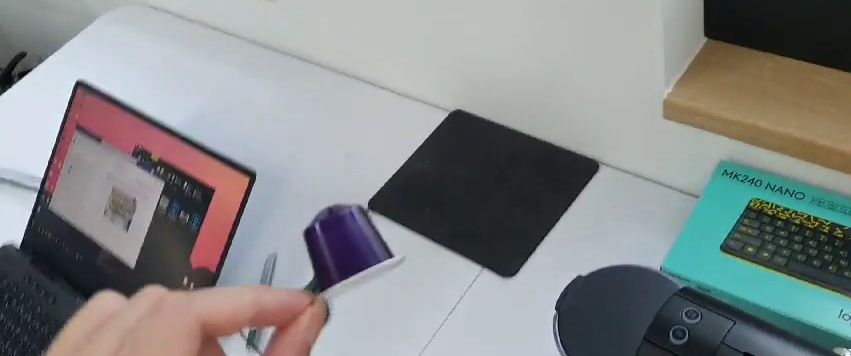capsule_11: (298, 197, 404, 303)
